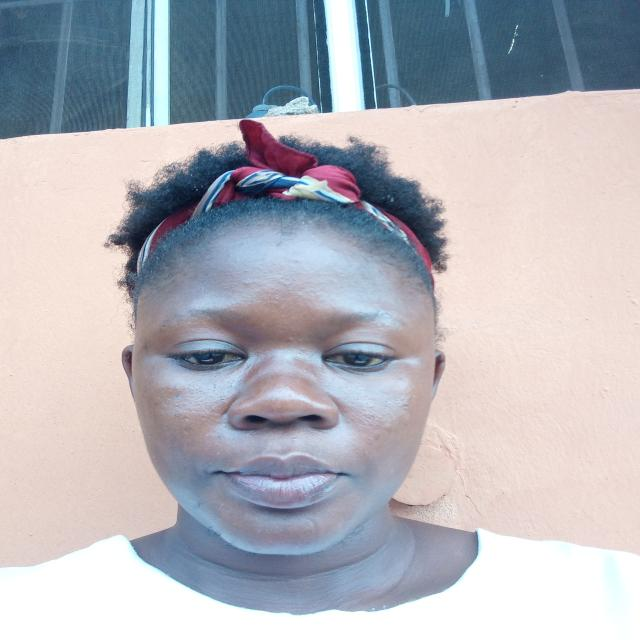Acne: (282, 334, 308, 354), (238, 277, 252, 288), (138, 342, 148, 353), (212, 433, 223, 441)
Blackheads: (259, 265, 315, 311)
Englarged-Pores: (158, 382, 226, 422), (342, 388, 375, 428), (380, 396, 411, 409), (224, 379, 244, 395)
